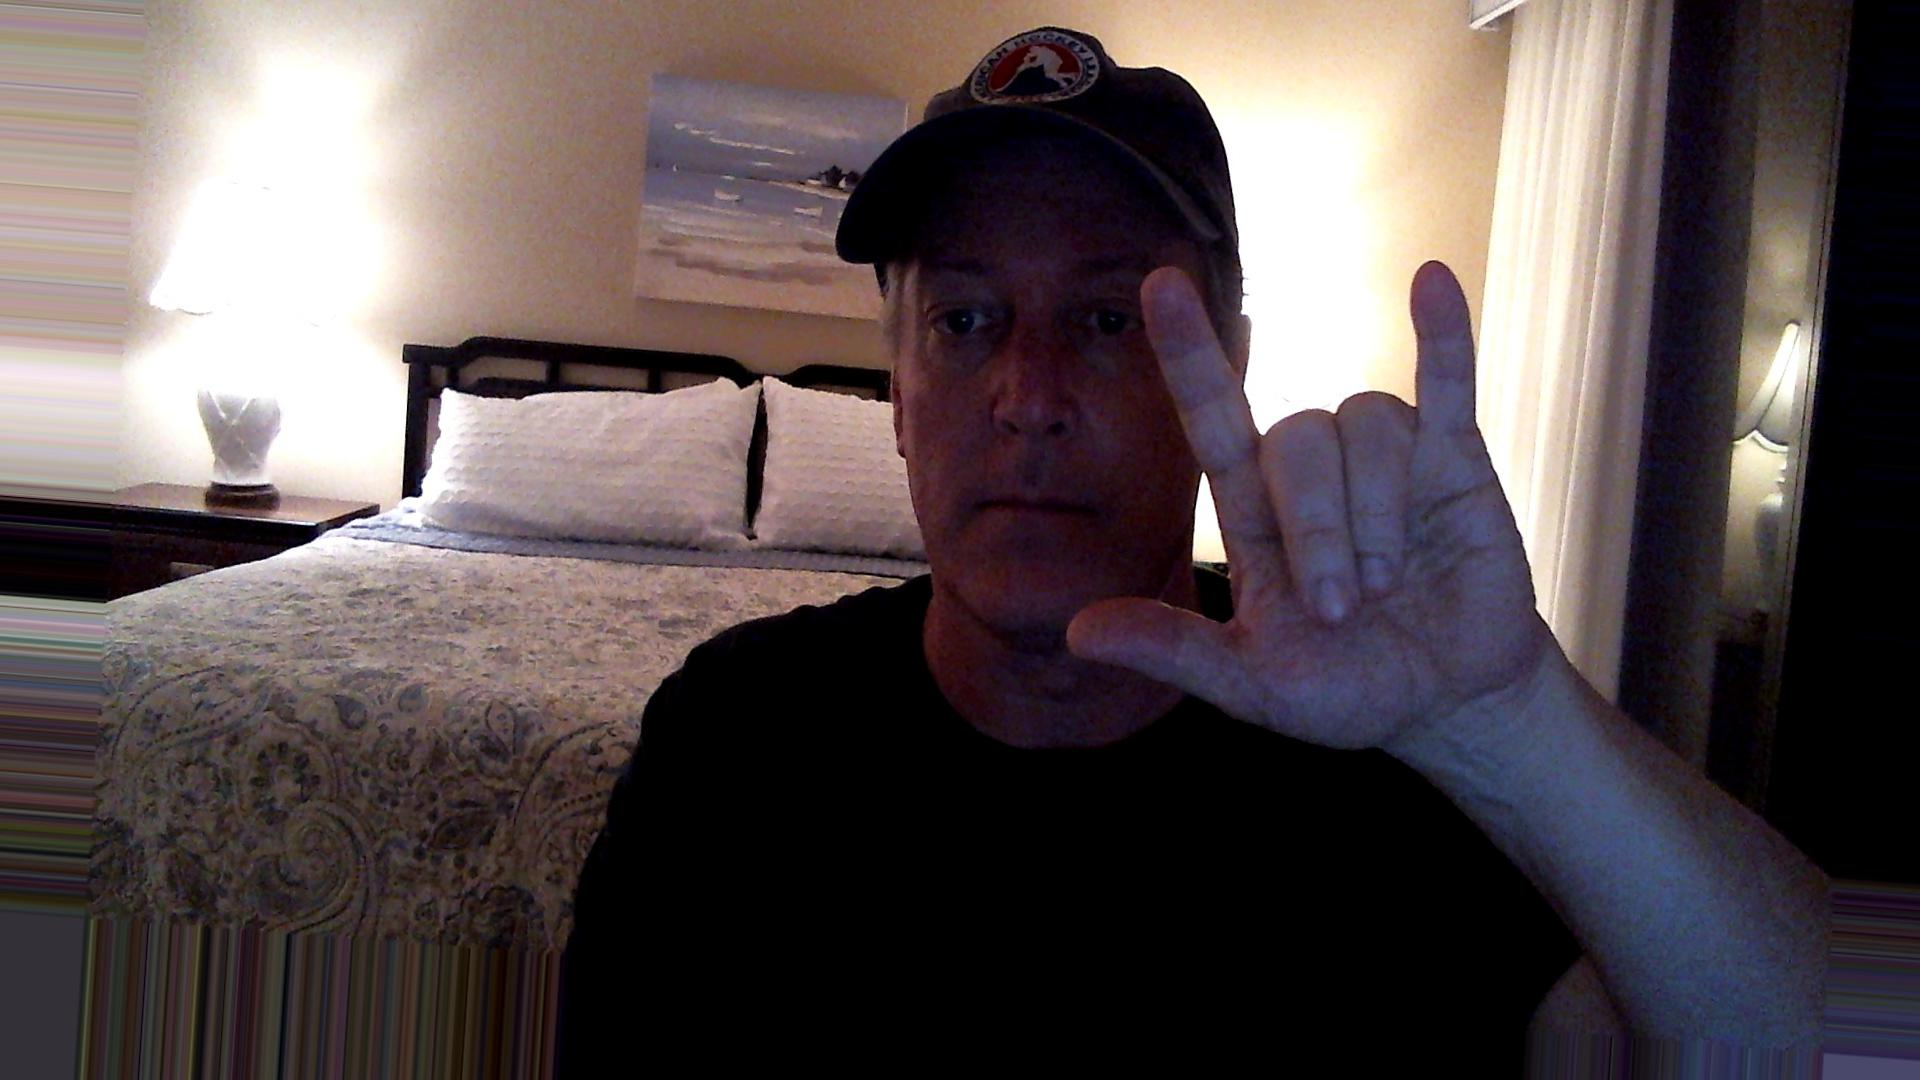I Love You: (1058, 244, 1581, 754)
